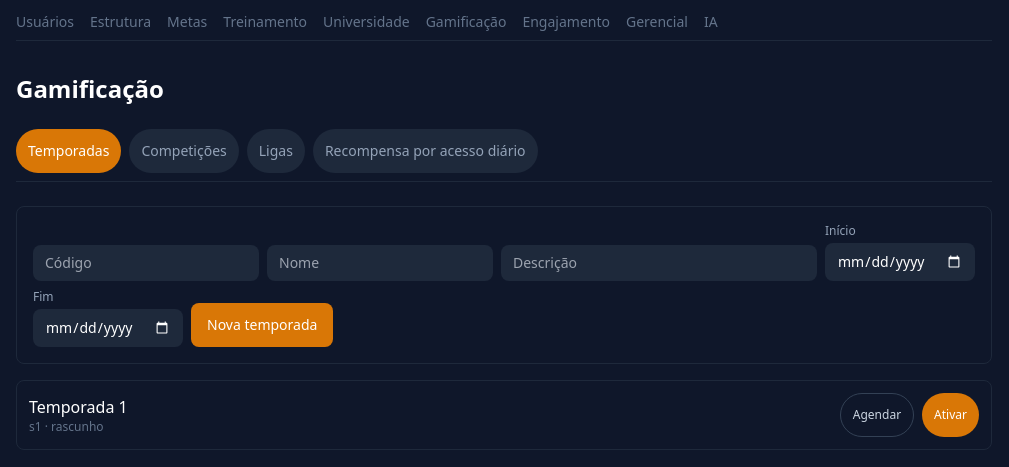
Test: AdminGamificacao › troca pra aba Ligas e mostra o catálogo
Click the button "Ligas": [276, 151] box [247,129,305,173]
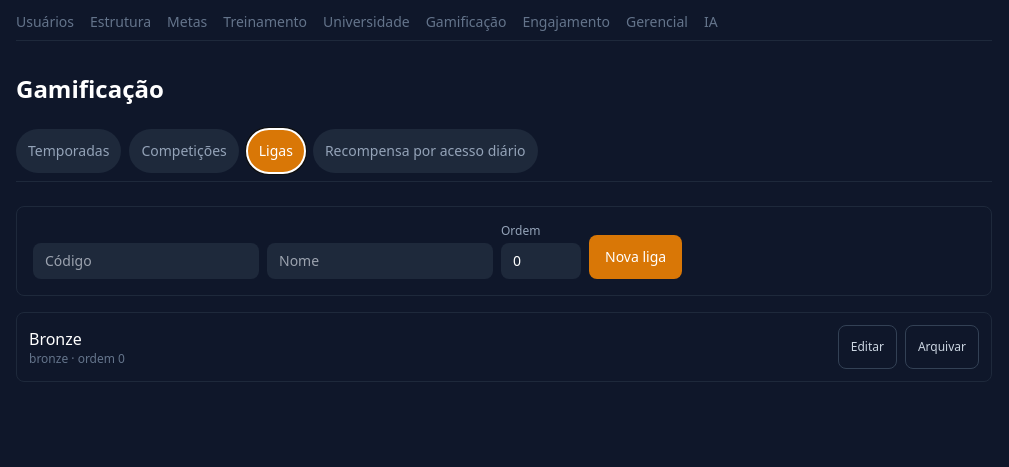
Expected: the text "Bronze" is shown, [29,328,82,350]
